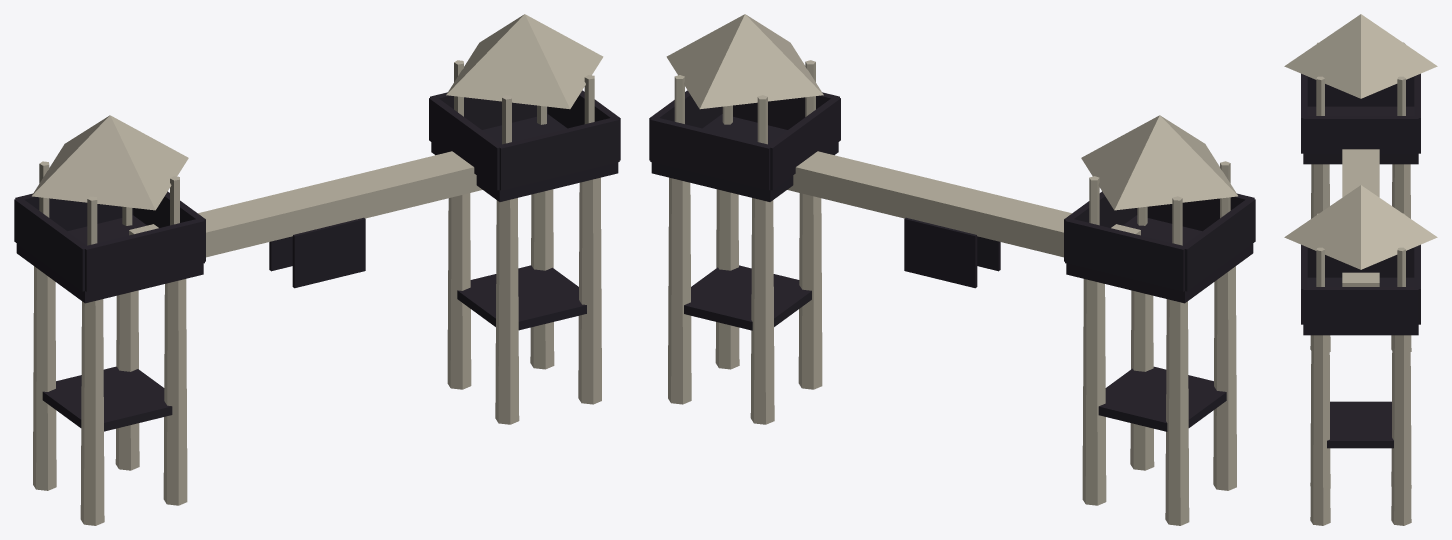
Rendered from horde_gate_broken.glb.
3 renders of one model, left to right at view 1: azimuth 30°, elevation 25°; view 2: azimuth 150°, elevation 25°; view 3: azimuth 270°, elevation 25°, orthographic. The views are drawn at different scales.
Visible parts, largest first — view 1: horde_gate_piece4, horde_gate_piece1, horde_gate_piece6, horde_gate_piece9, horde_gate_piece10, horde_gate_piece3, horde_gate_piece7, horde_gate_piece5, horde_gate_piece12, horde_gate_piece13, horde_gate_piece11, horde_gate_piece8 (+2 smaller); view 2: horde_gate_piece1, horde_gate_piece3, horde_gate_piece10, horde_gate_piece9, horde_gate_piece11, horde_gate_piece6, horde_gate_piece5, horde_gate_piece4, horde_gate_piece0, horde_gate_piece7, horde_gate_piece13, horde_gate_piece8 (+2 smaller); view 3: horde_gate_piece4, horde_gate_piece9, horde_gate_piece3, horde_gate_piece8, horde_gate_piece1, horde_gate_piece12, horde_gate_piece0, horde_gate_piece10, horde_gate_piece7, horde_gate_piece11, horde_gate_piece5, horde_gate_piece13.
Boxes of the visible parts, x1=… form: horde_gate_piece4: x1=104, y1=115, x2=299, y2=324; horde_gate_piece1: x1=14, y1=203, x2=187, y2=486; horde_gate_piece6: x1=292, y1=48, x2=518, y2=288; horde_gate_piece9: x1=441, y1=14, x2=620, y2=192; horde_gate_piece10: x1=14, y1=118, x2=137, y2=297; horde_gate_piece3: x1=447, y1=105, x2=601, y2=424; horde_gate_piece7: x1=429, y1=119, x2=573, y2=371; horde_gate_piece5: x1=33, y1=253, x2=186, y2=525; horde_gate_piece12: x1=535, y1=230, x2=601, y2=399; horde_gate_piece13: x1=242, y1=178, x2=342, y2=268; horde_gate_piece11: x1=427, y1=39, x2=530, y2=238; horde_gate_piece8: x1=512, y1=54, x2=618, y2=287; horde_gate_piece1: x1=1082, y1=244, x2=1226, y2=525; horde_gate_piece3: x1=649, y1=127, x2=822, y2=424; horde_gate_piece10: x1=1079, y1=121, x2=1255, y2=296; horde_gate_piece9: x1=671, y1=14, x2=803, y2=160; horde_gate_piece11: x1=654, y1=96, x2=831, y2=271; horde_gate_piece6: x1=778, y1=49, x2=1000, y2=271; horde_gate_piece5: x1=1139, y1=238, x2=1255, y2=524; horde_gate_piece4: x1=995, y1=115, x2=1215, y2=257; horde_gate_piece0: x1=960, y1=176, x2=1129, y2=288; horde_gate_piece7: x1=771, y1=95, x2=840, y2=309; horde_gate_piece13: x1=905, y1=185, x2=1032, y2=284; horde_gate_piece8: x1=649, y1=54, x2=737, y2=276; horde_gate_piece4: x1=1284, y1=14, x2=1409, y2=203; horde_gate_piece9: x1=1284, y1=185, x2=1427, y2=339; horde_gate_piece3: x1=1310, y1=297, x2=1420, y2=525; horde_gate_piece8: x1=1303, y1=252, x2=1420, y2=442; horde_gate_piece1: x1=1311, y1=79, x2=1414, y2=351; horde_gate_piece12: x1=1310, y1=380, x2=1348, y2=519; horde_gate_piece0: x1=1357, y1=52, x2=1437, y2=190; horde_gate_piece10: x1=1301, y1=20, x2=1420, y2=183; horde_gate_piece7: x1=1301, y1=246, x2=1384, y2=441; horde_gate_piece11: x1=1382, y1=230, x2=1437, y2=355; horde_gate_piece5: x1=1307, y1=96, x2=1349, y2=218; horde_gate_piece13: x1=1342, y1=177, x2=1379, y2=197.
Size of the model in its own units: 4.83 by 3.05 by 1.33.
